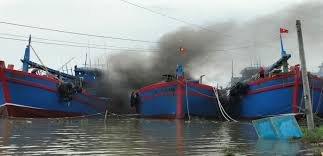tau_dansu: (3, 42, 114, 121), (127, 53, 226, 127), (230, 43, 319, 113)
